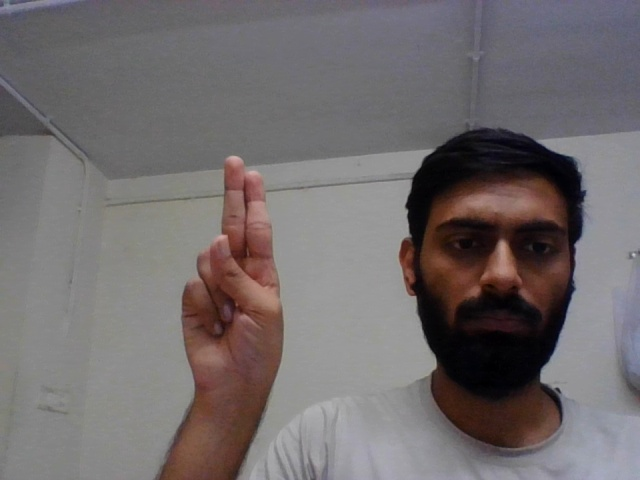U: (177, 149, 290, 426)
